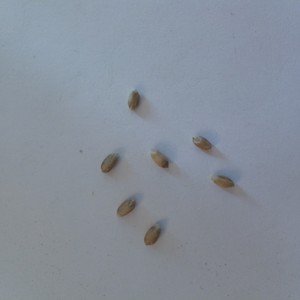trigo: (146, 147, 173, 170), (98, 150, 121, 175), (115, 195, 136, 221), (143, 222, 162, 250), (209, 171, 235, 191), (189, 133, 214, 153), (125, 87, 141, 111)
